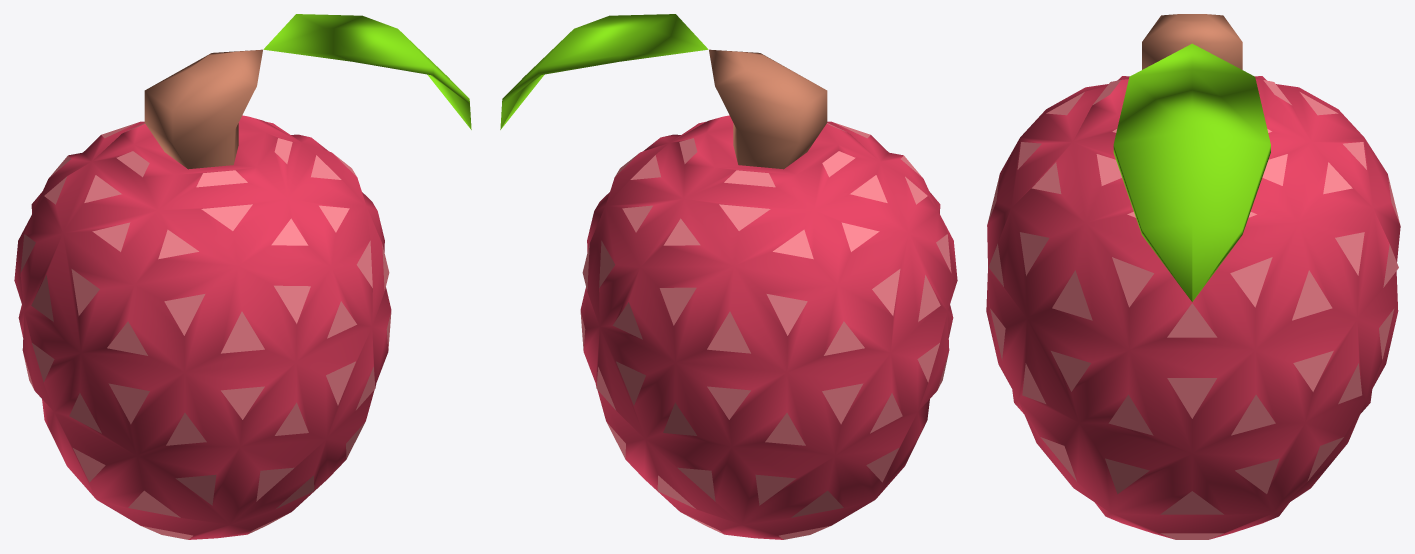
File: item_litchi.fbx
The picture shows the model from 3 angles, left to right: view 1: azimuth 30°, elevation 25°; view 2: azimuth 150°, elevation 25°; view 3: azimuth 270°, elevation 25°; orthographic projection. The views are drawn at different scales.
Visible parts, largest first — view 1: Icosphere; view 2: Icosphere; view 3: Icosphere.
Part boxes in pixels (<box>): Icosphere: <box>14,14,471,539</box>; Icosphere: <box>500,14,957,539</box>; Icosphere: <box>986,14,1400,539</box>.
Bounding box in the file's own units: 175 × 177 × 132.
